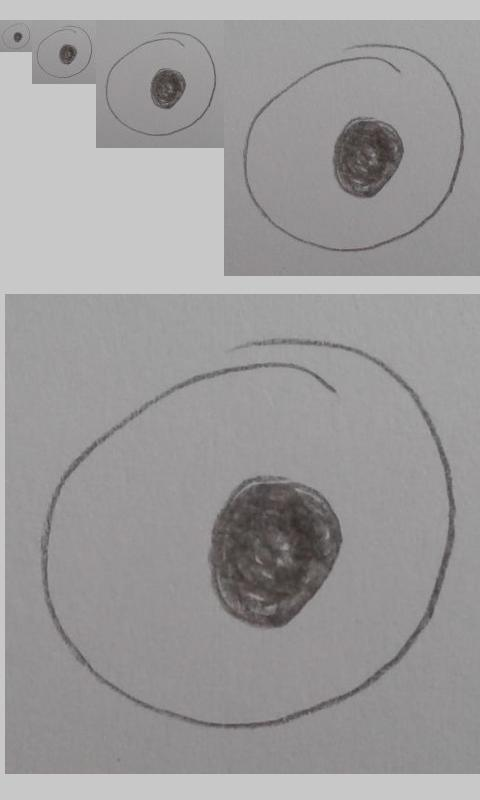radio_button: (35, 336, 458, 733), (242, 41, 466, 253), (104, 30, 217, 137), (36, 25, 93, 79), (1, 22, 31, 50)
